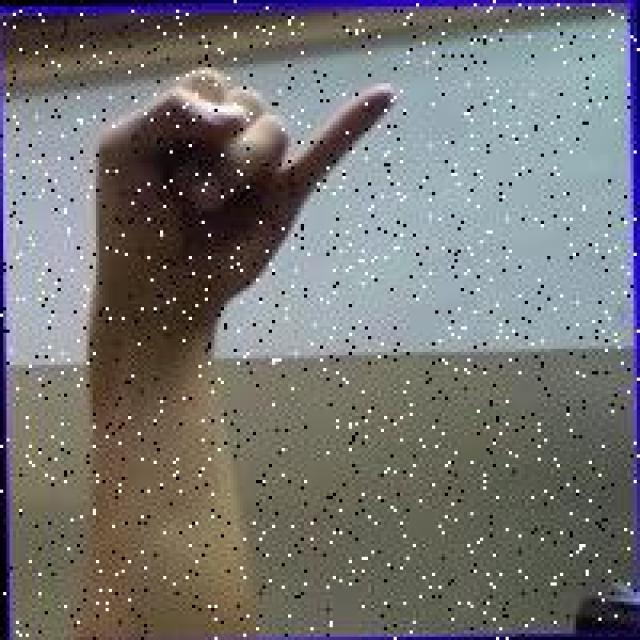J: (62, 48, 408, 349)
